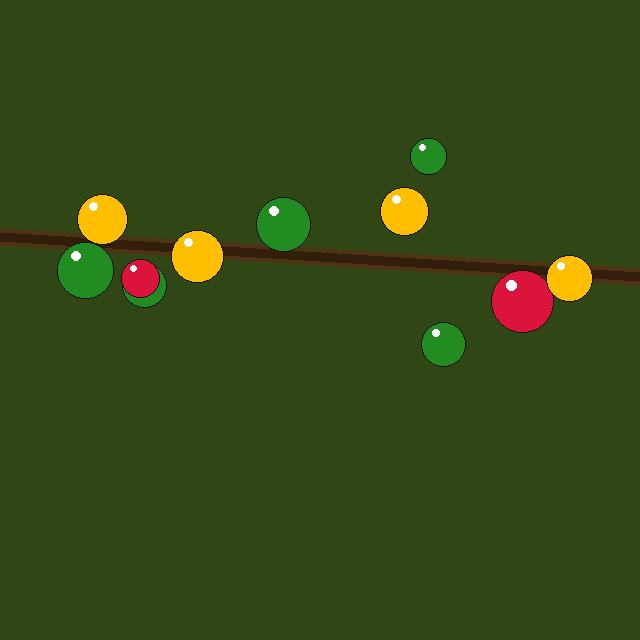Ripe: (491, 270, 553, 332), (121, 259, 159, 297)
Ripening: (171, 230, 223, 282), (77, 194, 127, 244), (380, 187, 428, 235), (546, 255, 592, 301)
Unripe: (57, 242, 113, 298), (256, 197, 310, 251), (421, 322, 465, 366), (122, 263, 166, 307), (410, 138, 446, 174)
